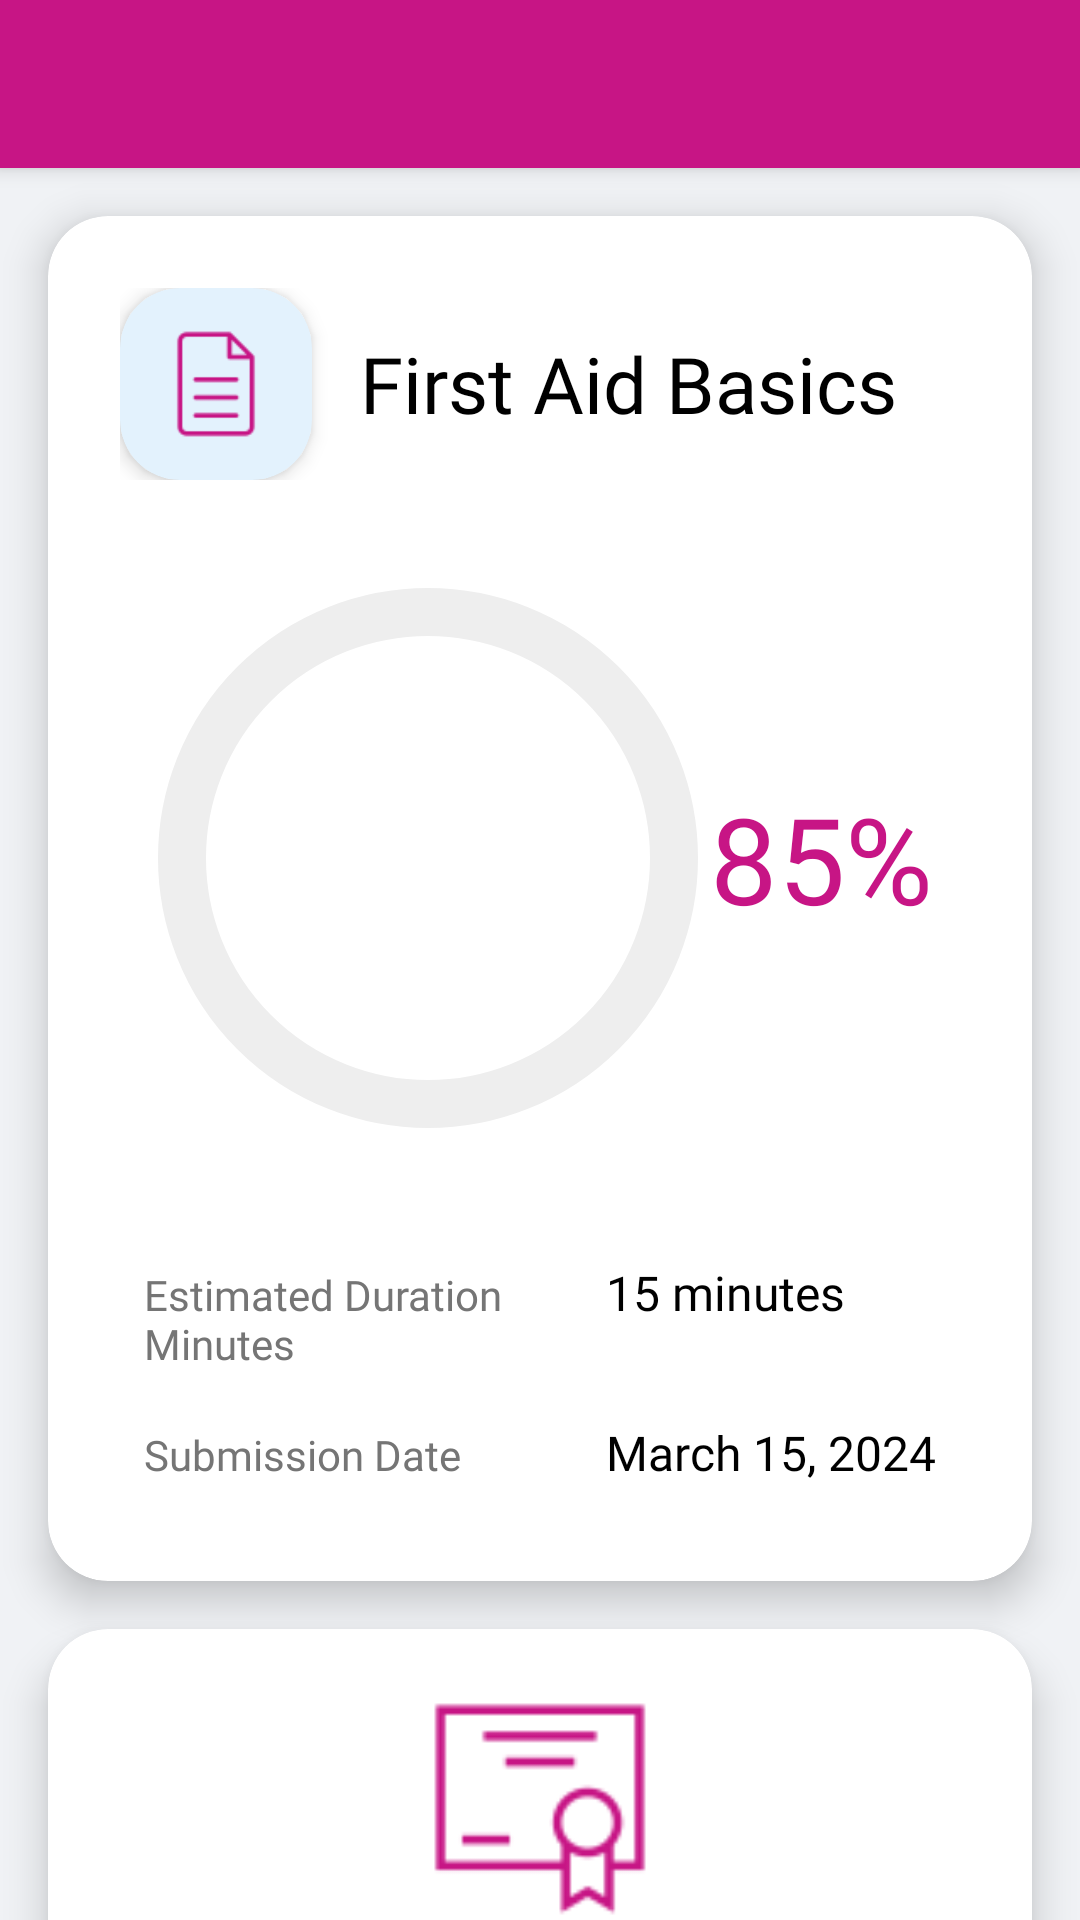

Locate icon controls on the screen. Image size 1080px×1920px, boxes as (x1, y1, x2, y2).
certif: (434, 1703, 646, 1914)
formation: (177, 331, 255, 437)
